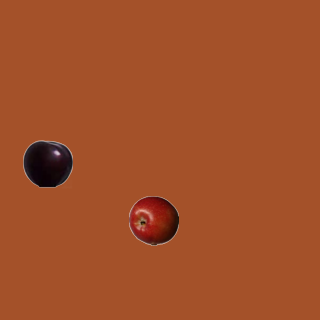Apple Braeburn: (128, 195, 178, 245)
Cherry Wax Black: (22, 138, 72, 188)
